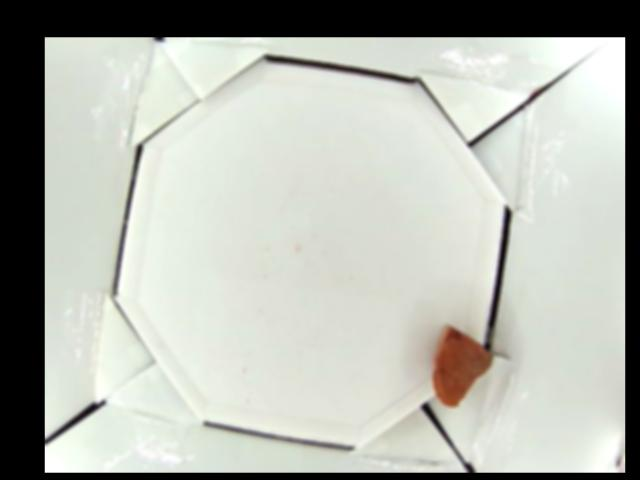Brisk: (430, 326, 495, 410)
